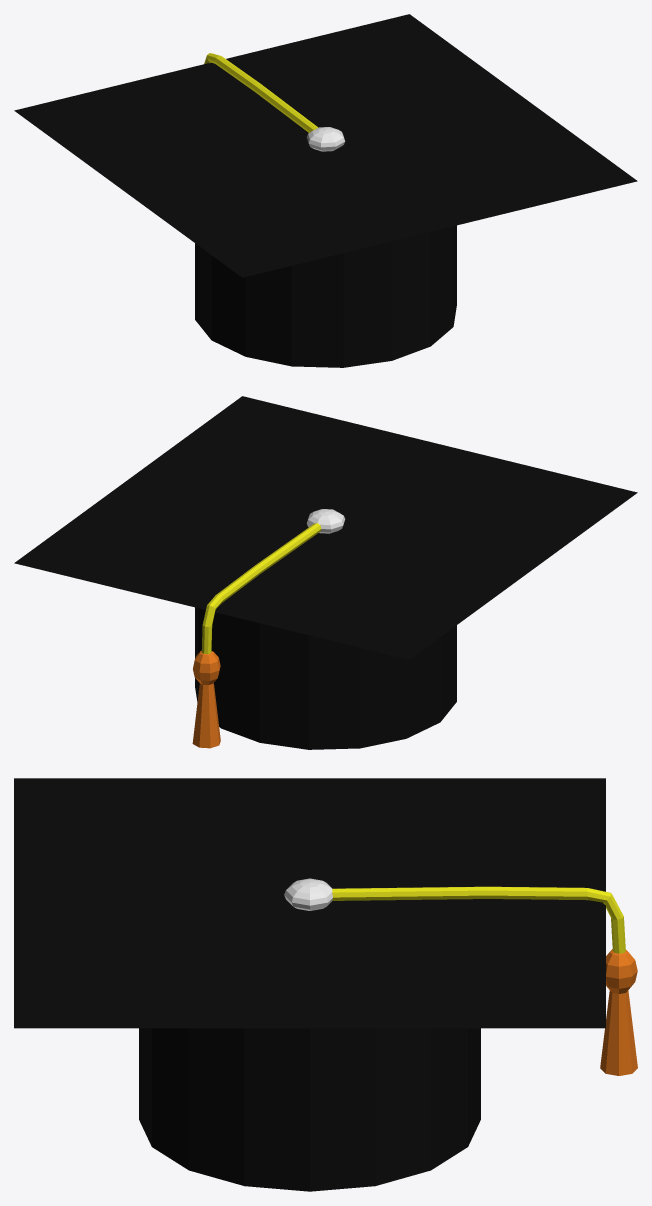
The model's file is Hat_student.fbx.
3 views of the same model, one above another, from view 1: azimuth 30°, elevation 25°; view 2: azimuth 150°, elevation 25°; view 3: azimuth 270°, elevation 25° (orthographic). The views are drawn at different scales.
Parts seen in each view (by area): view 1: Куб, Цилиндр, Цилиндр.001, Сфера; view 2: Куб, Цилиндр, Сфера.001, Цилиндр.001, Сфера; view 3: Куб, Цилиндр, Цилиндр.001, Сфера.001, Сфера.
Part boxes in pixels (x1=…): Куб: x1=14, y1=14, x2=637, y2=277; Цилиндр: x1=195, y1=225, x2=456, y2=367; Цилиндр.001: x1=204, y1=53, x2=318, y2=132; Сфера: x1=306, y1=127, x2=345, y2=151; Куб: x1=14, y1=396, x2=637, y2=659; Цилиндр: x1=195, y1=607, x2=456, y2=749; Сфера.001: x1=192, y1=651, x2=220, y2=748; Цилиндр.001: x1=201, y1=523, x2=321, y2=654; Сфера: x1=306, y1=509, x2=345, y2=533; Куб: x1=14, y1=778, x2=605, y2=1028; Цилиндр: x1=139, y1=1028, x2=480, y2=1191; Цилиндр.001: x1=332, y1=886, x2=625, y2=953; Сфера.001: x1=600, y1=949, x2=637, y2=1075; Сфера: x1=284, y1=878, x2=332, y2=910.
Bounding box in the file's own units: 346 × 153 × 365.
